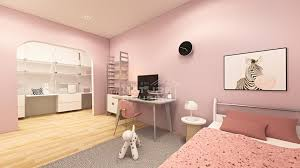Bed: (146, 99, 300, 168)
Lamp: (182, 99, 202, 122)
Table: (113, 93, 174, 139)
